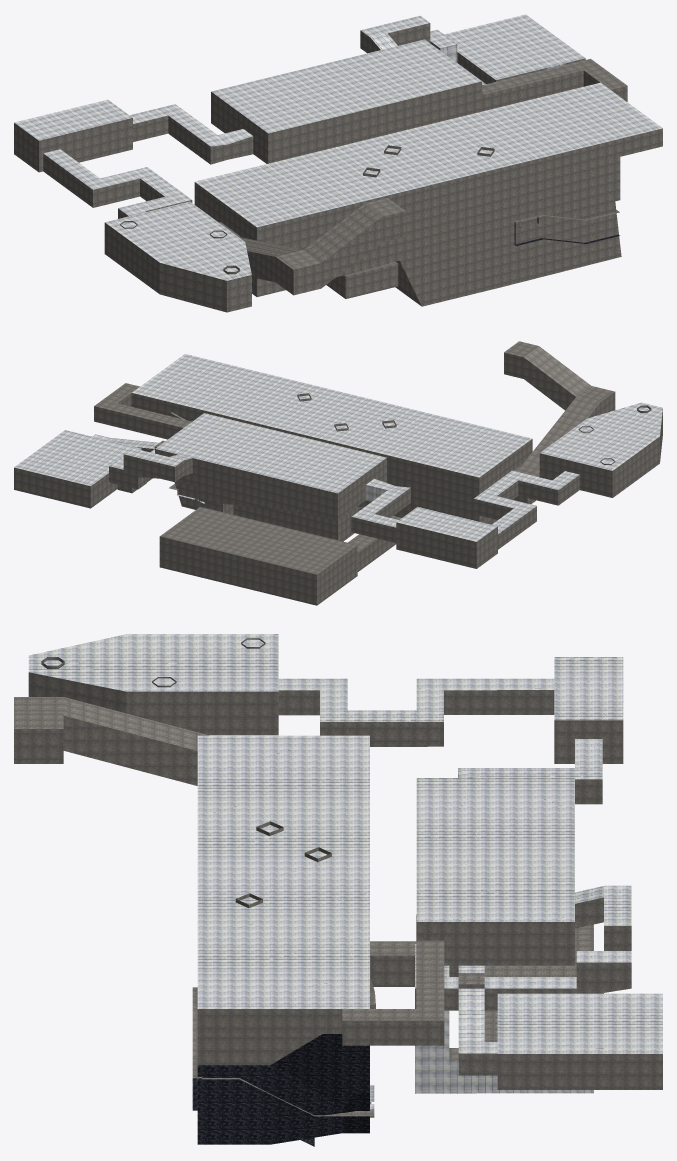
The model's file is TutorialFloor.fbx.
3 views of the same model, one above another, from view 1: azimuth 30°, elevation 25°; view 2: azimuth 150°, elevation 25°; view 3: azimuth 270°, elevation 25° (orthographic). The views are drawn at different scales.
Parts seen in each view (by area): view 1: TutorialFloor; view 2: TutorialFloor; view 3: TutorialFloor.
Part boxes in pixels (x1,y1,x2,y2): TutorialFloor: [14, 14, 662, 312]; TutorialFloor: [14, 341, 662, 605]; TutorialFloor: [14, 634, 662, 1146].
Bounding box in the file's own units: 12966 × 3695 × 9421.
Materials: 4 (4 with a texture image).
